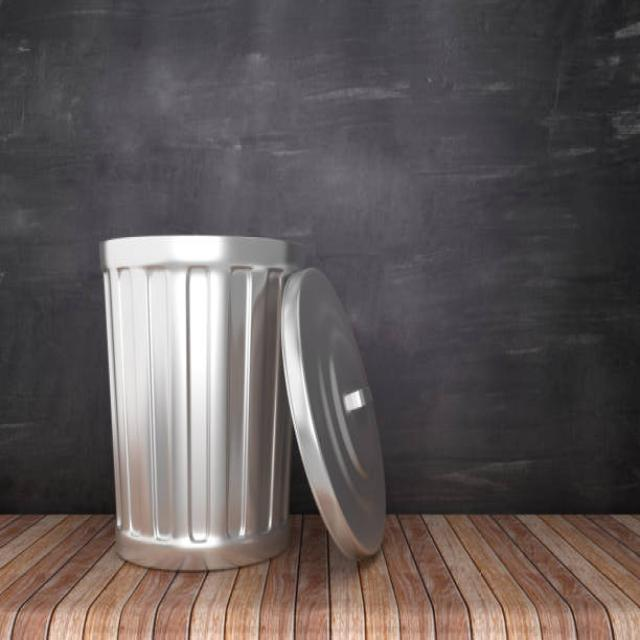metal: (86, 220, 382, 565)
